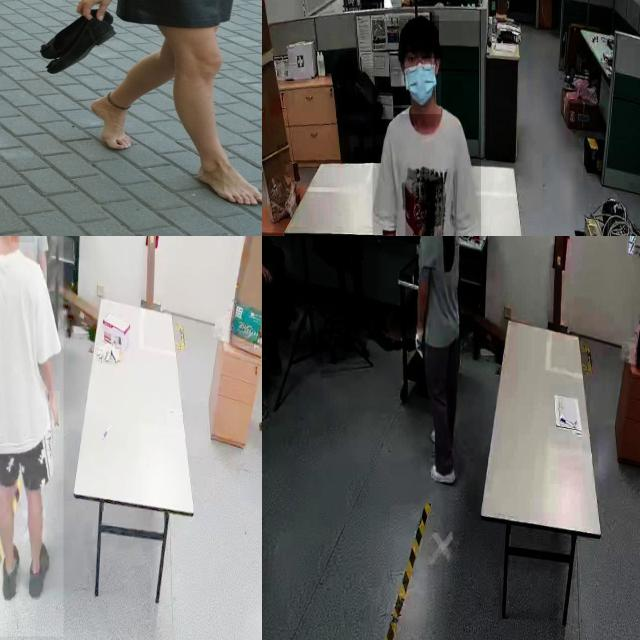Barefoots: (197, 164, 262, 204), (91, 98, 131, 150)
face_mask: (401, 58, 441, 114)
hand_glove: (412, 322, 428, 362)
hand_noglove: (47, 391, 61, 430), (262, 263, 274, 285)
head_nohelmet: (398, 15, 439, 48)
person: (0, 236, 64, 637), (372, 20, 481, 236), (414, 236, 473, 508)
shoes: (25, 534, 51, 608), (0, 540, 20, 606), (426, 457, 458, 486)
